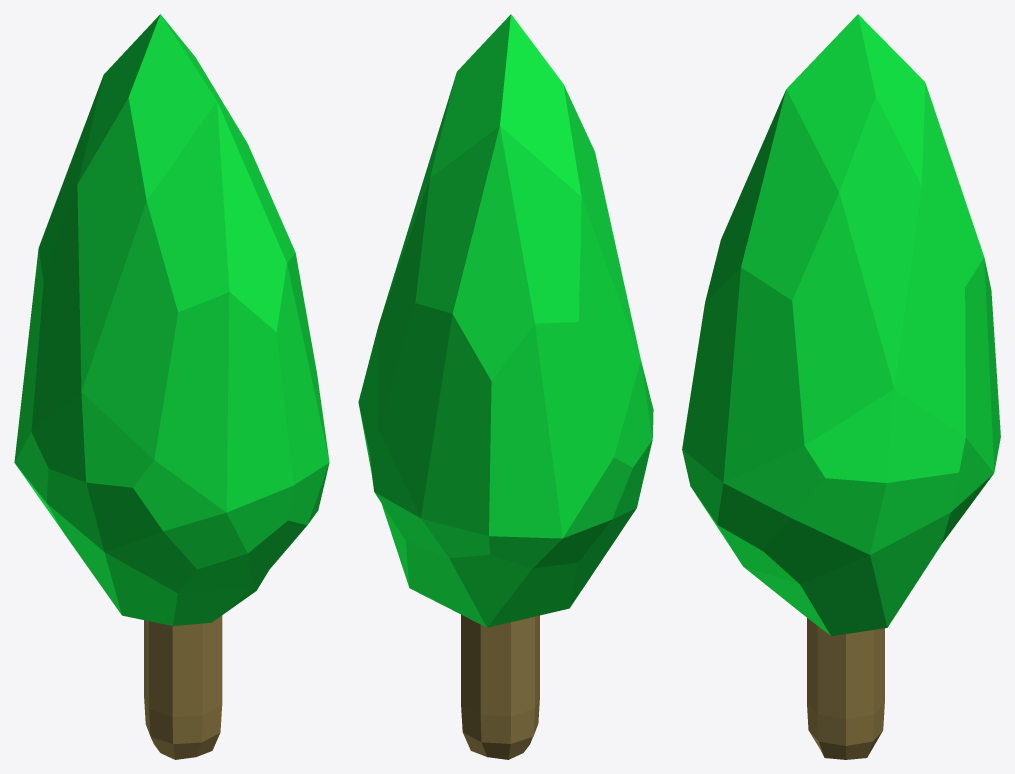
The model's file is Tree05.fbx.
3 views of the same model, side by side, from view 1: azimuth 30°, elevation 25°; view 2: azimuth 150°, elevation 25°; view 3: azimuth 270°, elevation 25° (orthographic). The views are drawn at different scales.
Visible parts, largest first — view 1: Tree04; view 2: Tree04; view 3: Tree04.
Boxes of the visible parts, <box> form: Tree04: <box>14,14,329,759</box>; Tree04: <box>358,14,653,759</box>; Tree04: <box>682,14,1000,759</box>.
Bounding box in the file's own units: 1.72 × 4.71 × 1.87.
